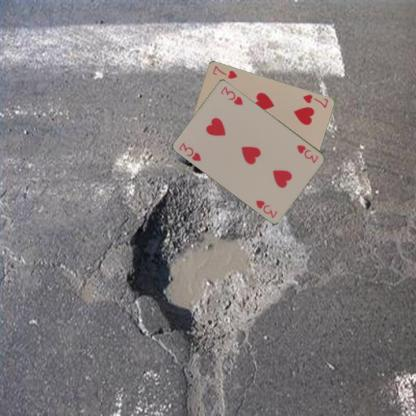3h: (176, 140, 204, 163), (294, 142, 320, 165)
7h: (300, 92, 329, 109)
